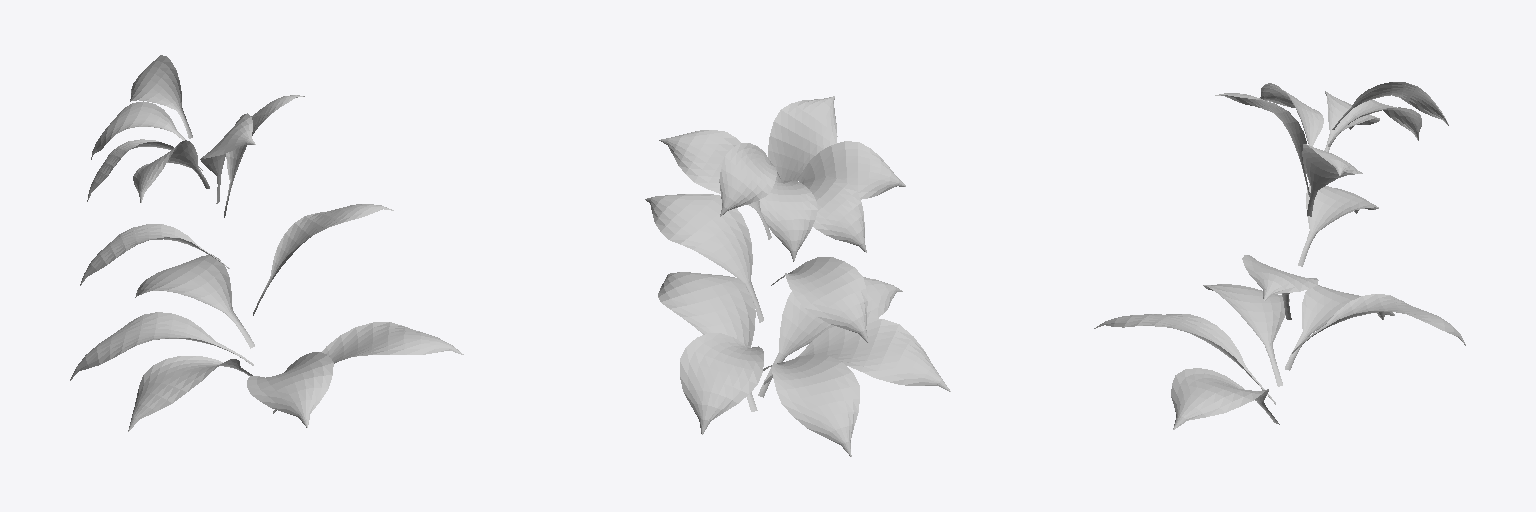
File: texturetest06.obj
3 views of the same model, side by side, from view 1: azimuth 30°, elevation 25°; view 2: azimuth 150°, elevation 25°; view 3: azimuth 270°, elevation 25° (orthographic).
Visible parts, largest first — view 1: plant1:rubberPlantPotted1Leaf plant1:rubberPlantPotted1MeshGroup; view 2: plant1:rubberPlantPotted1Leaf plant1:rubberPlantPotted1MeshGroup; view 3: plant1:rubberPlantPotted1Leaf plant1:rubberPlantPotted1MeshGroup.
Boxes of the visible parts, x1,y1,x2,y2 form: plant1:rubberPlantPotted1Leaf plant1:rubberPlantPotted1MeshGroup: [70, 55, 463, 431]; plant1:rubberPlantPotted1Leaf plant1:rubberPlantPotted1MeshGroup: [645, 96, 950, 456]; plant1:rubberPlantPotted1Leaf plant1:rubberPlantPotted1MeshGroup: [1094, 82, 1465, 429].
Size of the model in its own units: 62.73 by 61.97 by 65.22.